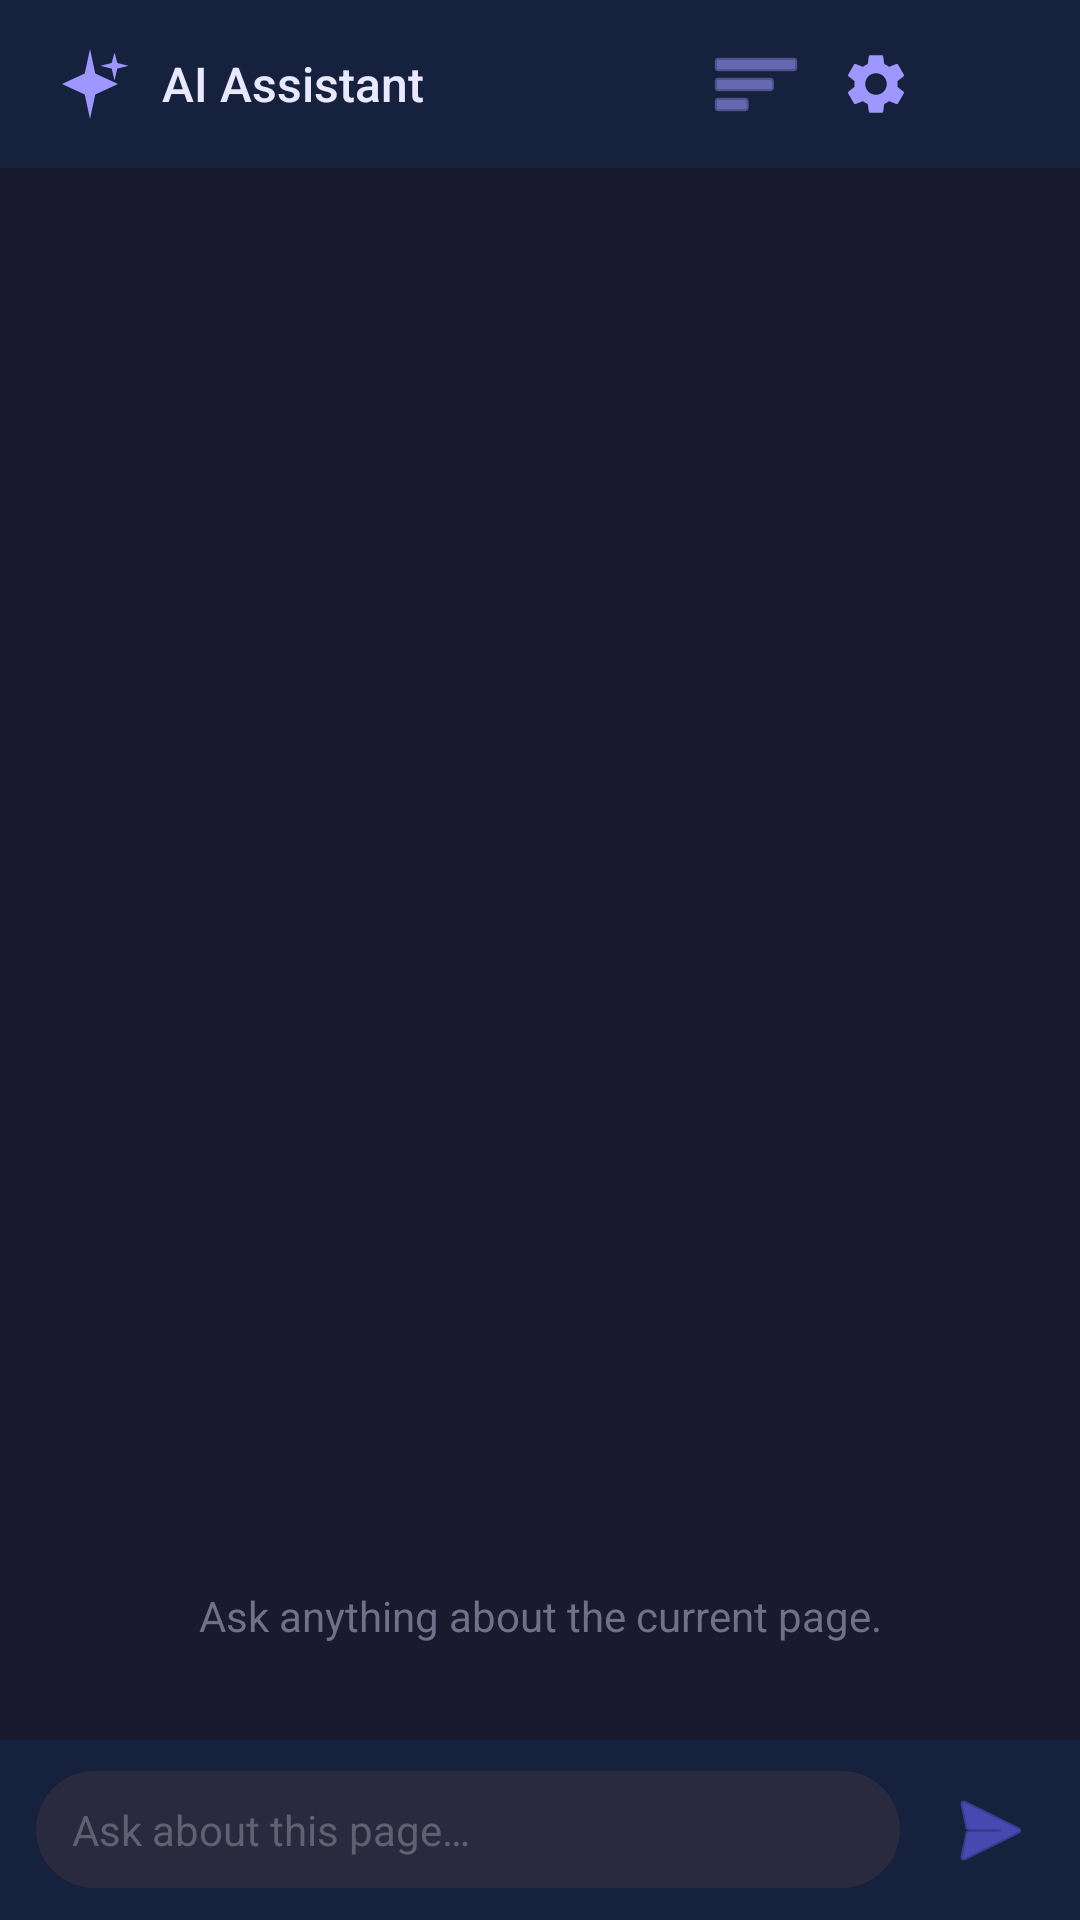

Icons on this 1080 x 1920 Android screen, each with the point to tap as [x,y]:
AI settings: [876,84]
Send: [991,1830]
Summarise this page: [756,84]
